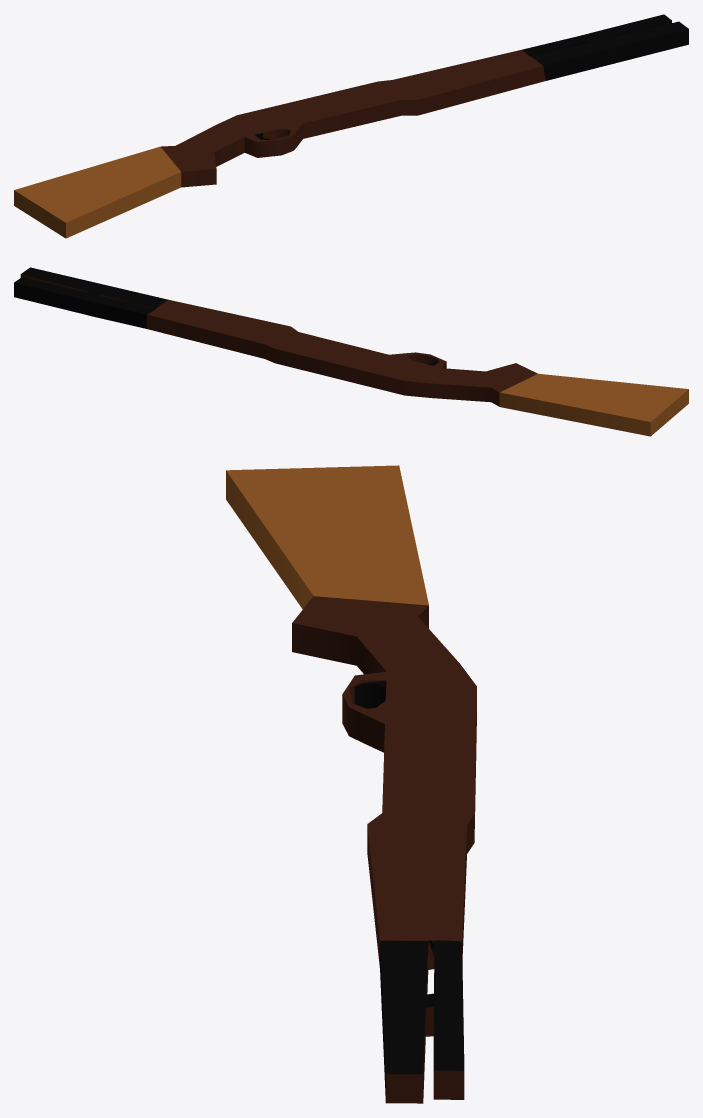
The model's file is LowPolyShotgun.fbx.
3 views of the same model, one above another, from view 1: azimuth 30°, elevation 25°; view 2: azimuth 150°, elevation 25°; view 3: azimuth 270°, elevation 25° (orthographic). The views are drawn at different scales.
Parts seen in each view (by area): view 1: Shotgun; view 2: Shotgun; view 3: Shotgun.
Boxes of the visible parts, x1=… form: Shotgun: x1=14, y1=14, x2=688, y2=238; Shotgun: x1=14, y1=267, x2=688, y2=436; Shotgun: x1=226, y1=465, x2=476, y2=1103.
Size of the model in its own units: 427 by 10.19 by 74.44.
Materials: 1 (1 with a texture image).
